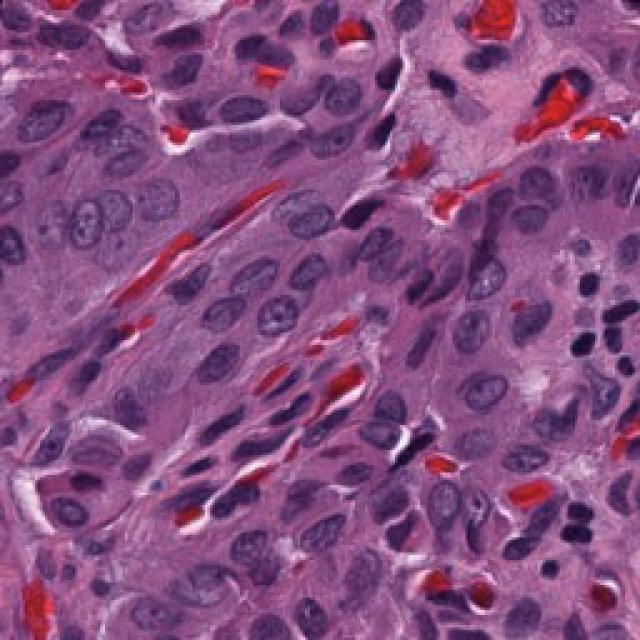abnormal: (7, 81, 108, 169), (153, 535, 256, 608), (437, 225, 532, 304), (270, 174, 373, 242), (280, 493, 372, 568), (327, 393, 419, 468), (503, 293, 593, 366), (113, 168, 203, 237), (53, 416, 138, 487), (433, 401, 506, 474), (105, 585, 197, 640), (453, 482, 507, 570), (439, 302, 516, 363), (299, 106, 373, 167), (454, 358, 528, 419), (58, 193, 111, 271), (272, 578, 337, 640), (412, 478, 466, 547), (100, 109, 147, 185), (220, 252, 280, 304), (249, 300, 305, 345)
